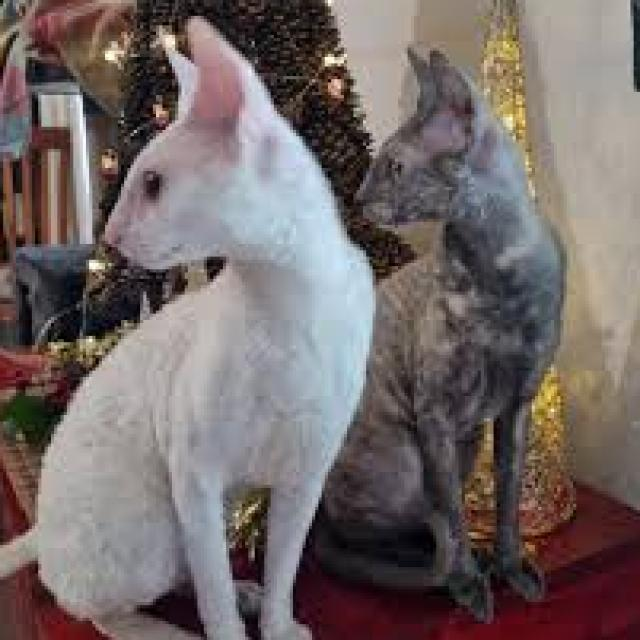Cornish Rex: (0, 6, 379, 640), (310, 45, 574, 630)
